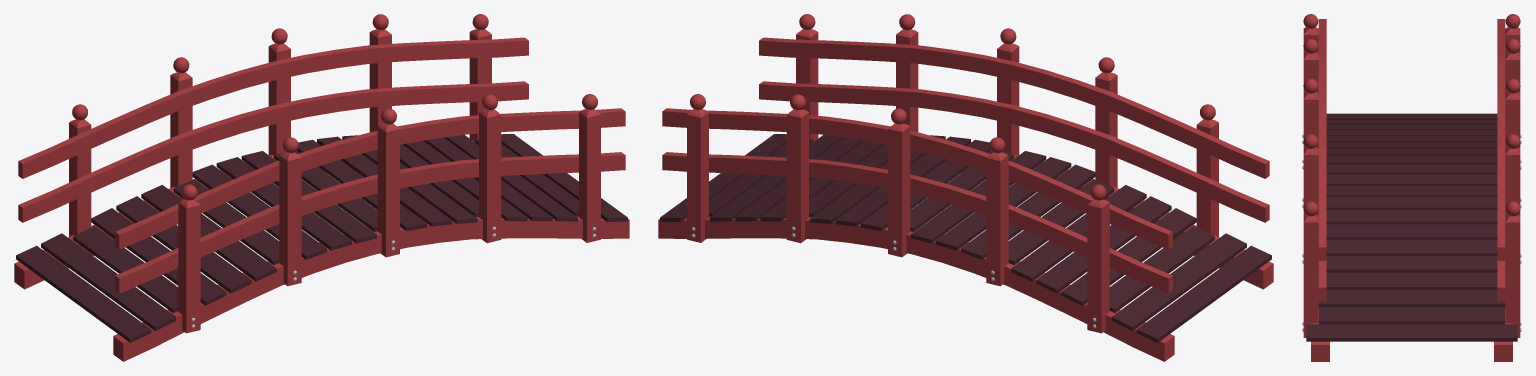
The model's file is Bridge.fbx.
The picture shows the model from 3 angles, left to right: view 1: azimuth 30°, elevation 25°; view 2: azimuth 150°, elevation 25°; view 3: azimuth 270°, elevation 25°; orthographic projection. The views are drawn at different scales.
Parts seen in each view (by area): view 1: Cube.002; view 2: Cube.002; view 3: Cube.002.
Boxes of the visible parts, left/top/right/bottom form: Cube.002: left=14, top=14, right=629, bottom=361; Cube.002: left=658, top=14, right=1273, bottom=361; Cube.002: left=1302, top=14, right=1521, bottom=361.
Bounding box in the file's own units: 166 × 58.96 × 67.36.
